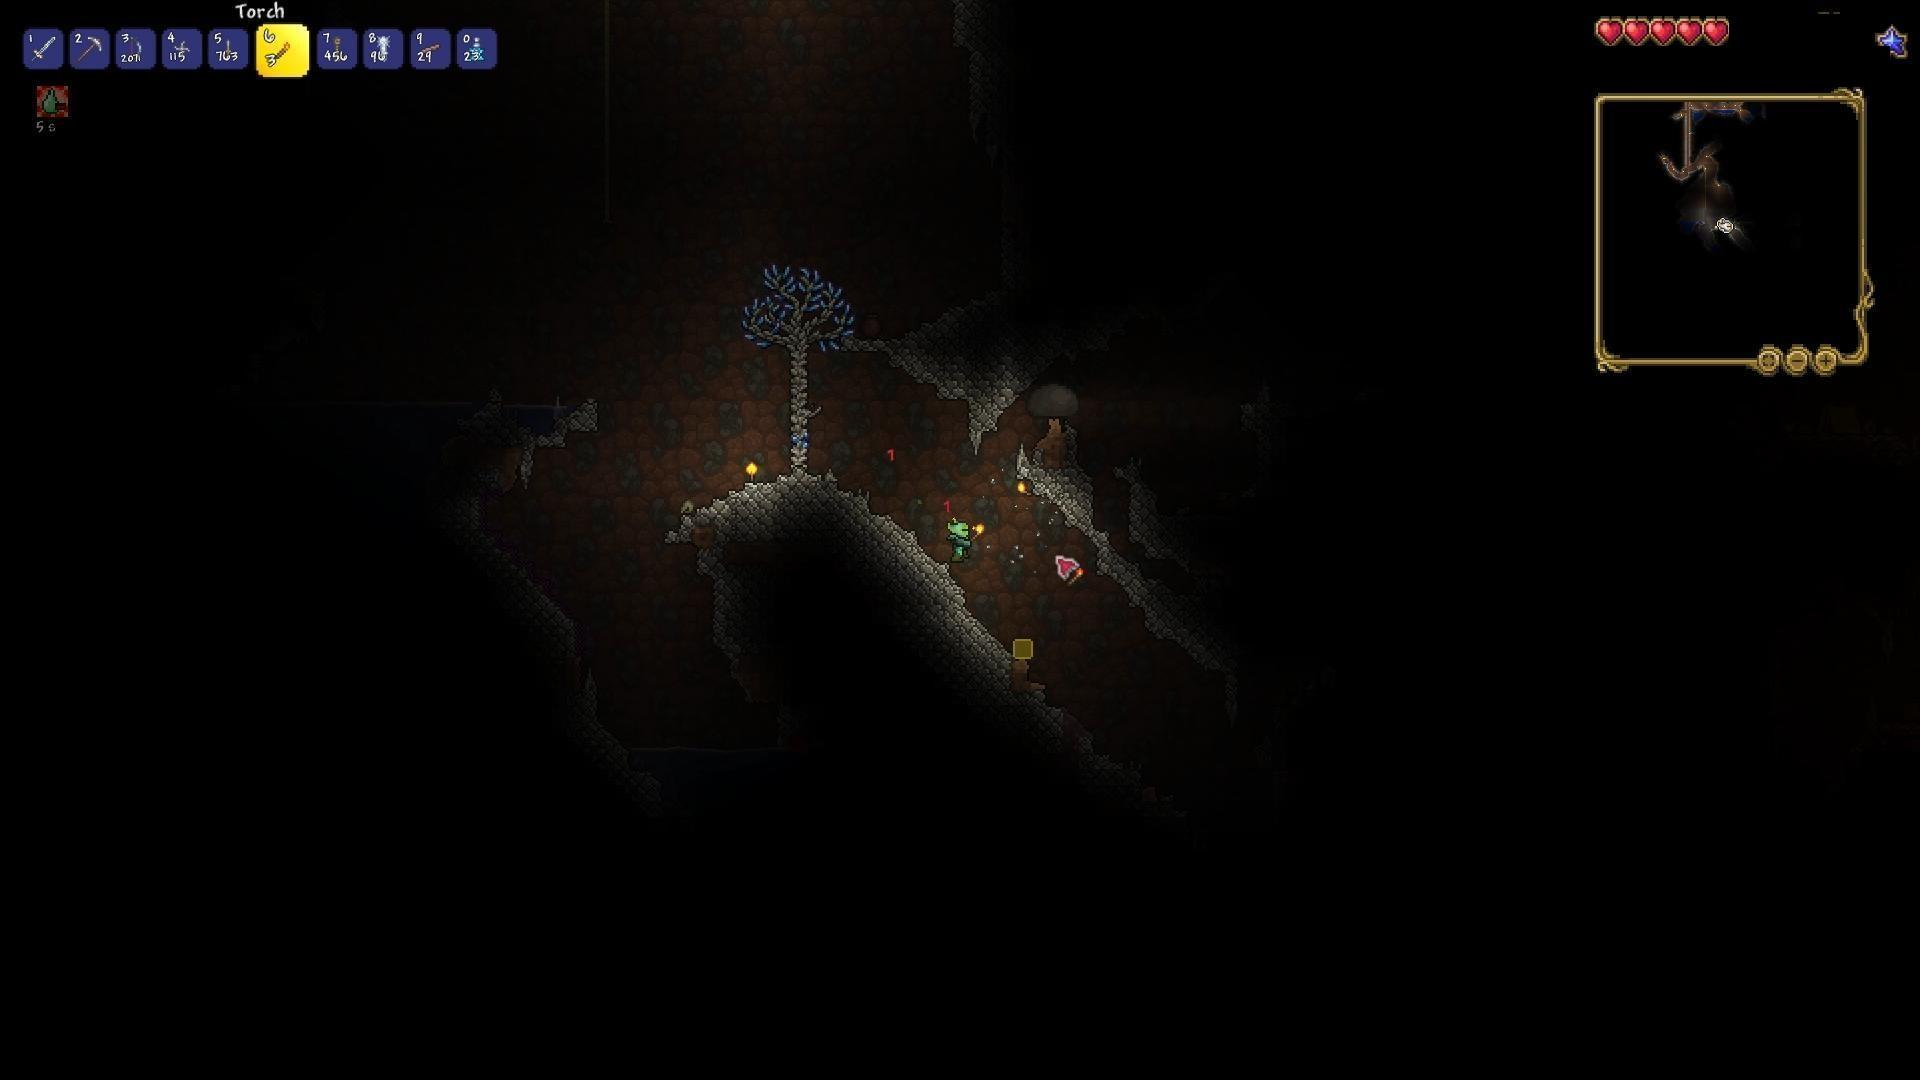heart: (1702, 17, 1733, 51), (1593, 16, 1626, 46), (1676, 15, 1704, 50), (1650, 16, 1676, 49), (1625, 15, 1651, 44)
stone: (675, 463, 938, 632), (836, 330, 1022, 442), (1005, 462, 1130, 543), (1081, 546, 1201, 629), (930, 572, 1011, 684), (545, 404, 603, 459)
